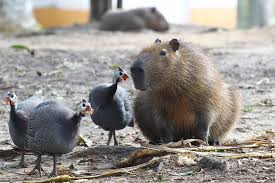capivara: (131, 37, 241, 149)
